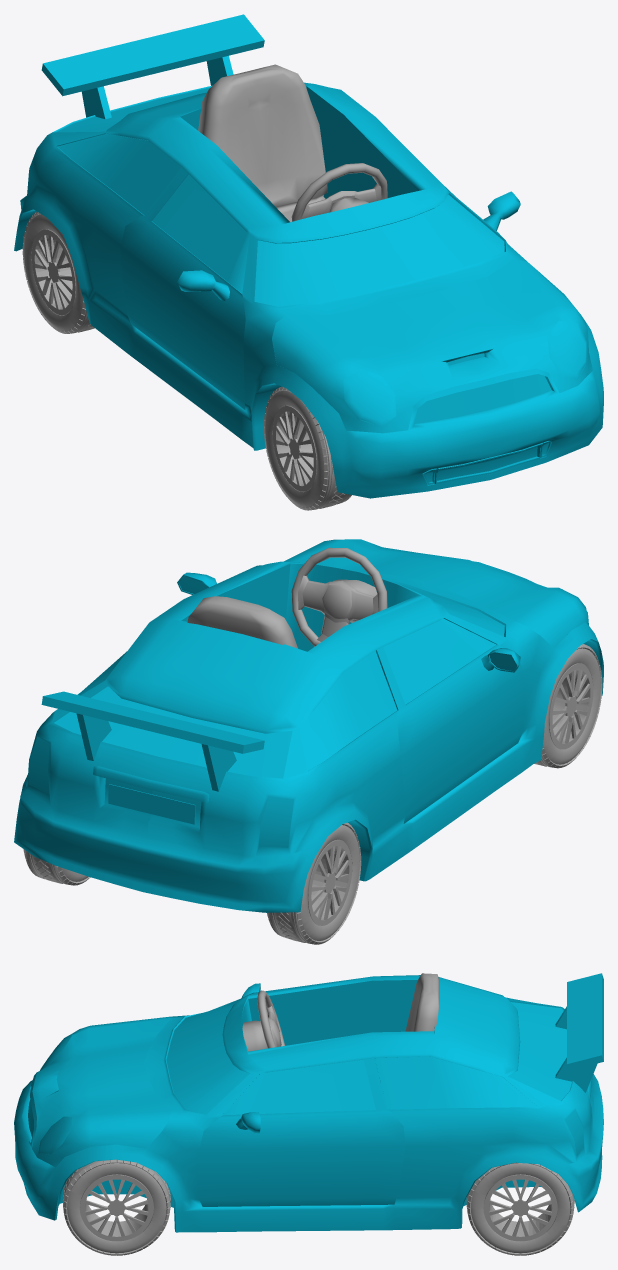
File: Kart_Temp2.fbx
3 views of the same model, one above another, from view 1: azimuth 30°, elevation 25°; view 2: azimuth 150°, elevation 25°; view 3: azimuth 270°, elevation 25° (orthographic). The views are drawn at different scales.
Visible parts, largest first — view 1: Kart_Geo, seat_Geo, R_wheele_front, R_wheele_rear, Wheele; view 2: Kart_Geo, R_wheele_rear, R_wheele_front, Wheele, seat_Geo, L_wheele_rear; view 3: Kart_Geo, L_wheele_front, L_wheele_rear, seat_Geo, Wheele.
Part boxes in pixels (x1,y1,x2,y2): Kart_Geo: (14,14,603,498); seat_Geo: (198,64,327,221); R_wheele_front: (263,386,351,510); R_wheele_rear: (22,211,94,333); Wheele: (291,163,387,221); Kart_Geo: (14,539,603,912); R_wheele_rear: (267,822,361,944); R_wheele_front: (534,644,602,768); Wheele: (291,547,387,646); seat_Geo: (187,596,297,648); L_wheele_rear: (23,849,90,885); Kart_Geo: (14,973,603,1232); L_wheele_front: (62,1159,170,1255); L_wheele_rear: (466,1162,574,1255); seat_Geo: (405,973,439,1031); Wheele: (257,990,284,1048).
Bounding box in the file's own units: 5.45 × 4.02 × 9.77.
